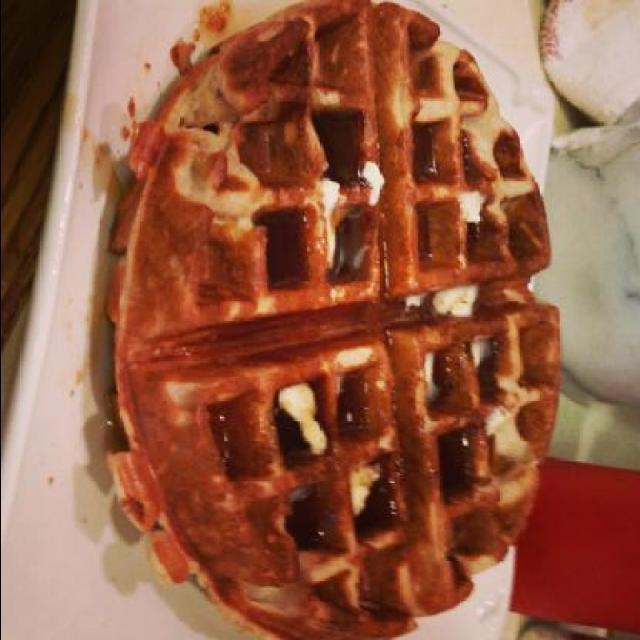Waffle: (100, 0, 560, 638)
